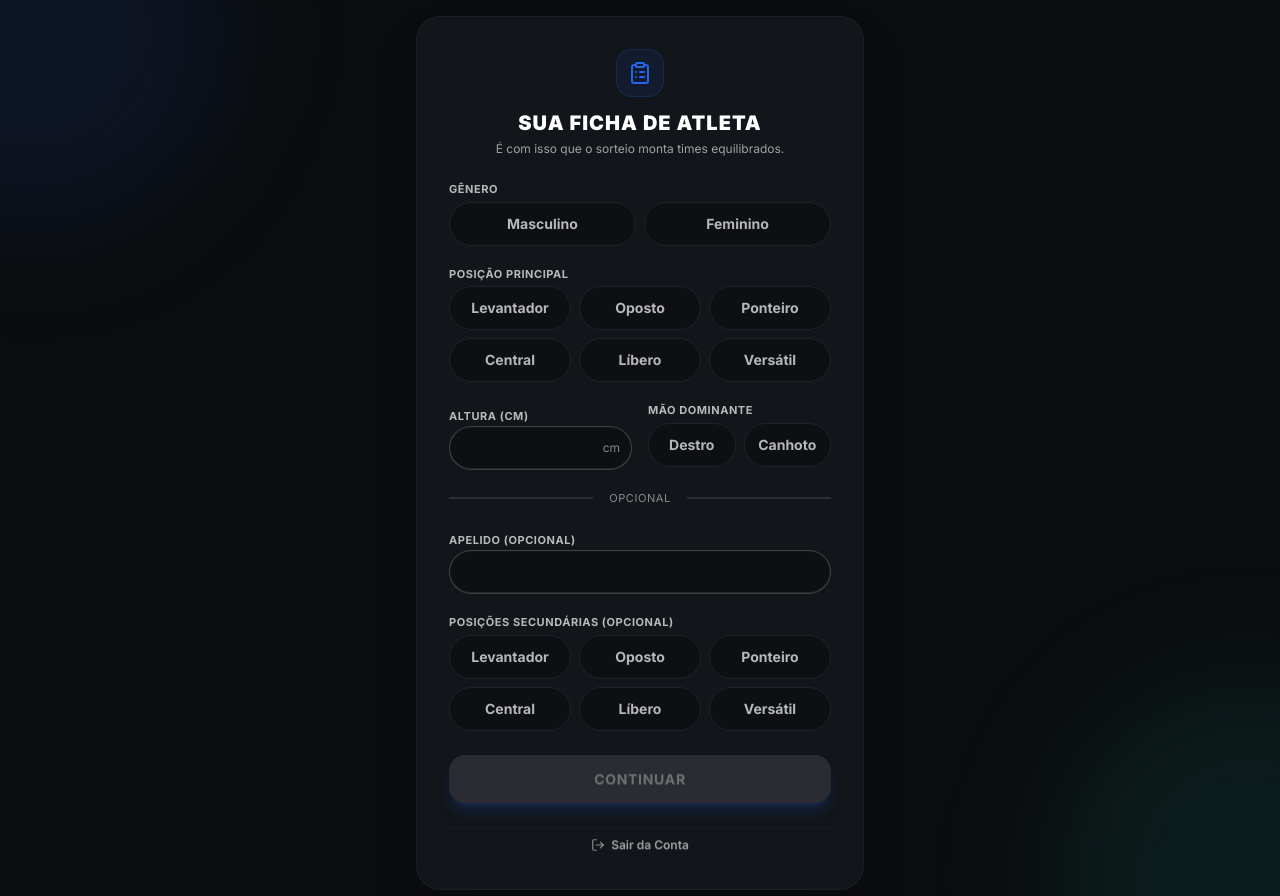
Test: CompleteAthleteProfilePage › a falha fica na tela e mantem o que foi preenchido
Click the radio button labelled "Masculino": [542, 224] box [449, 202, 636, 246]
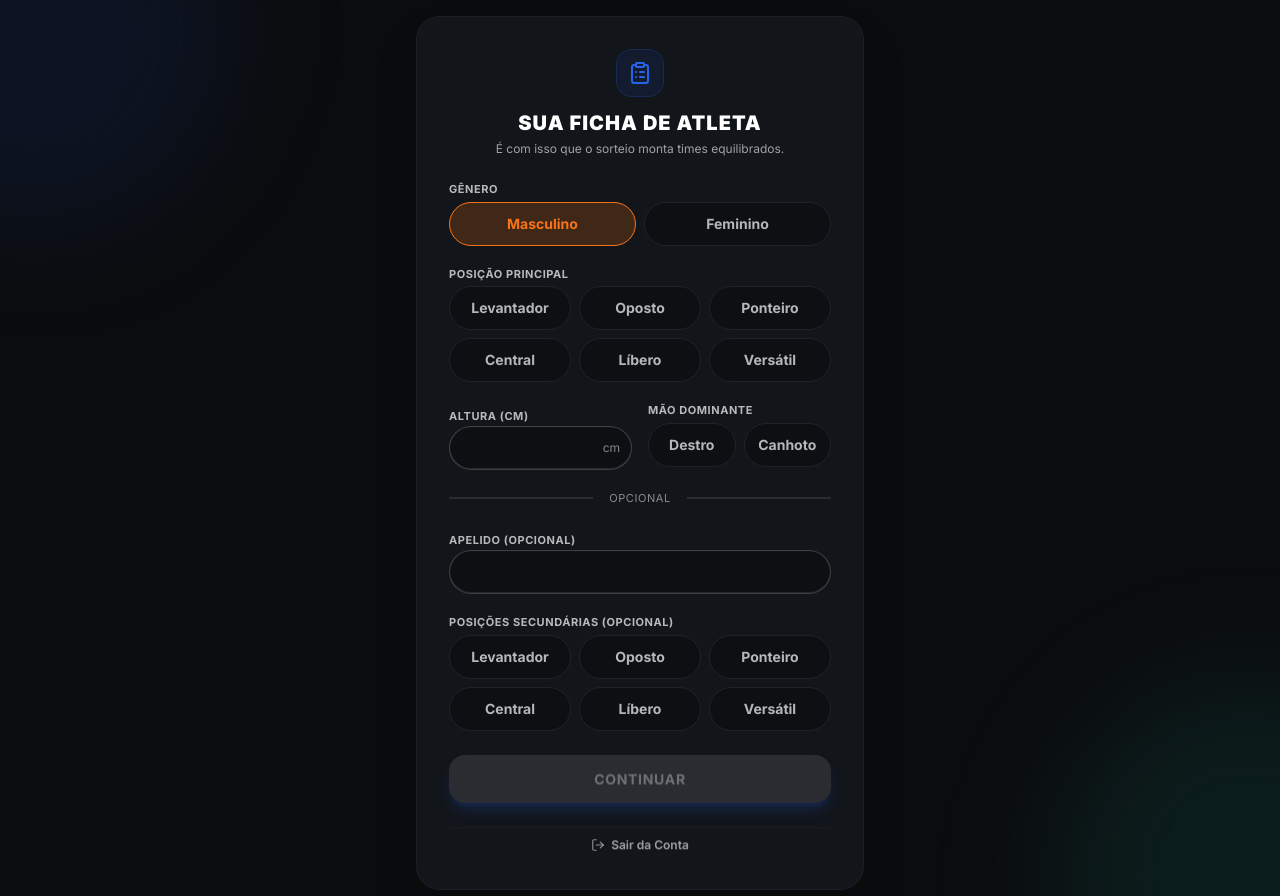
Click the radio button labelled "Ponteiro": [770, 308] box [709, 286, 831, 330]
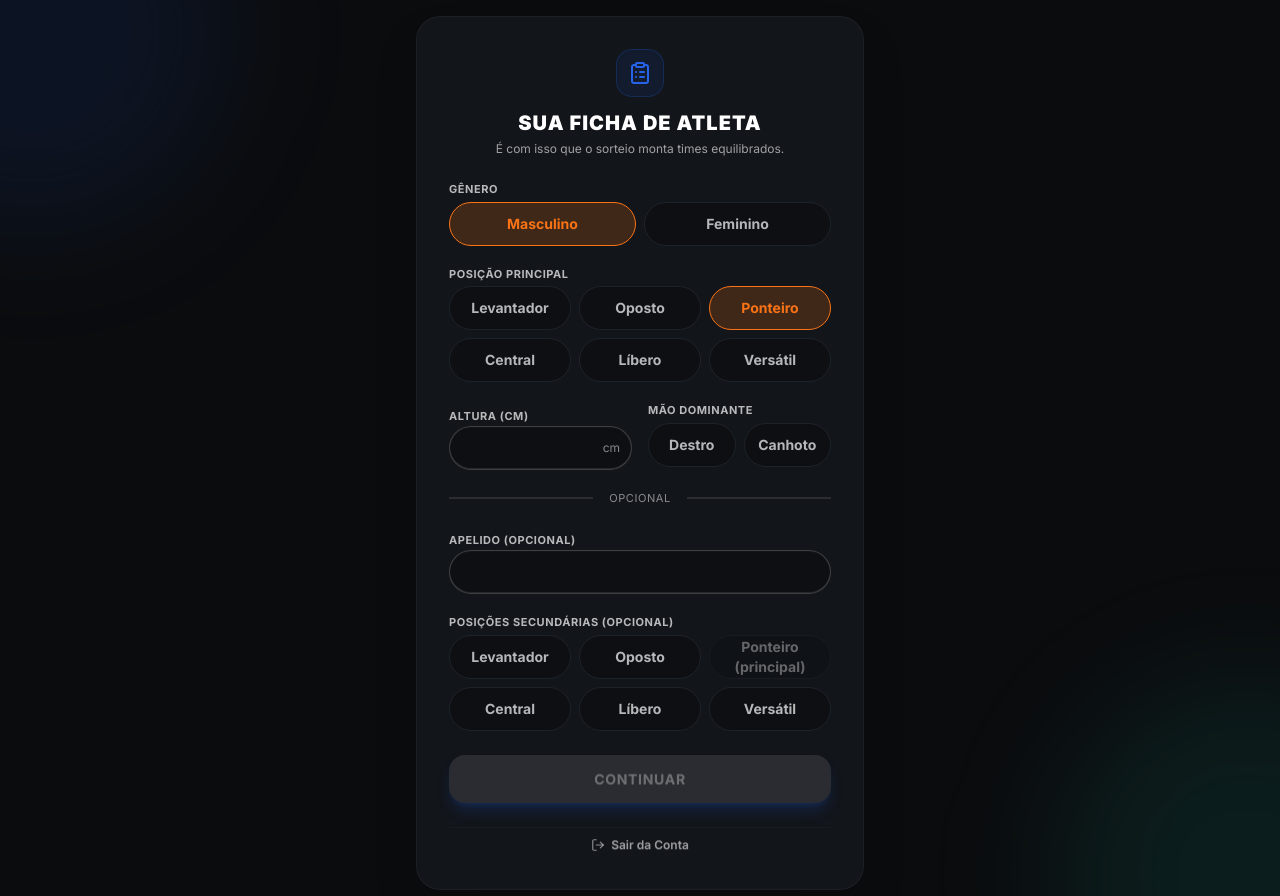
In the number field labelled "Altura (cm)": [540, 448] box [449, 426, 632, 470], type "182"
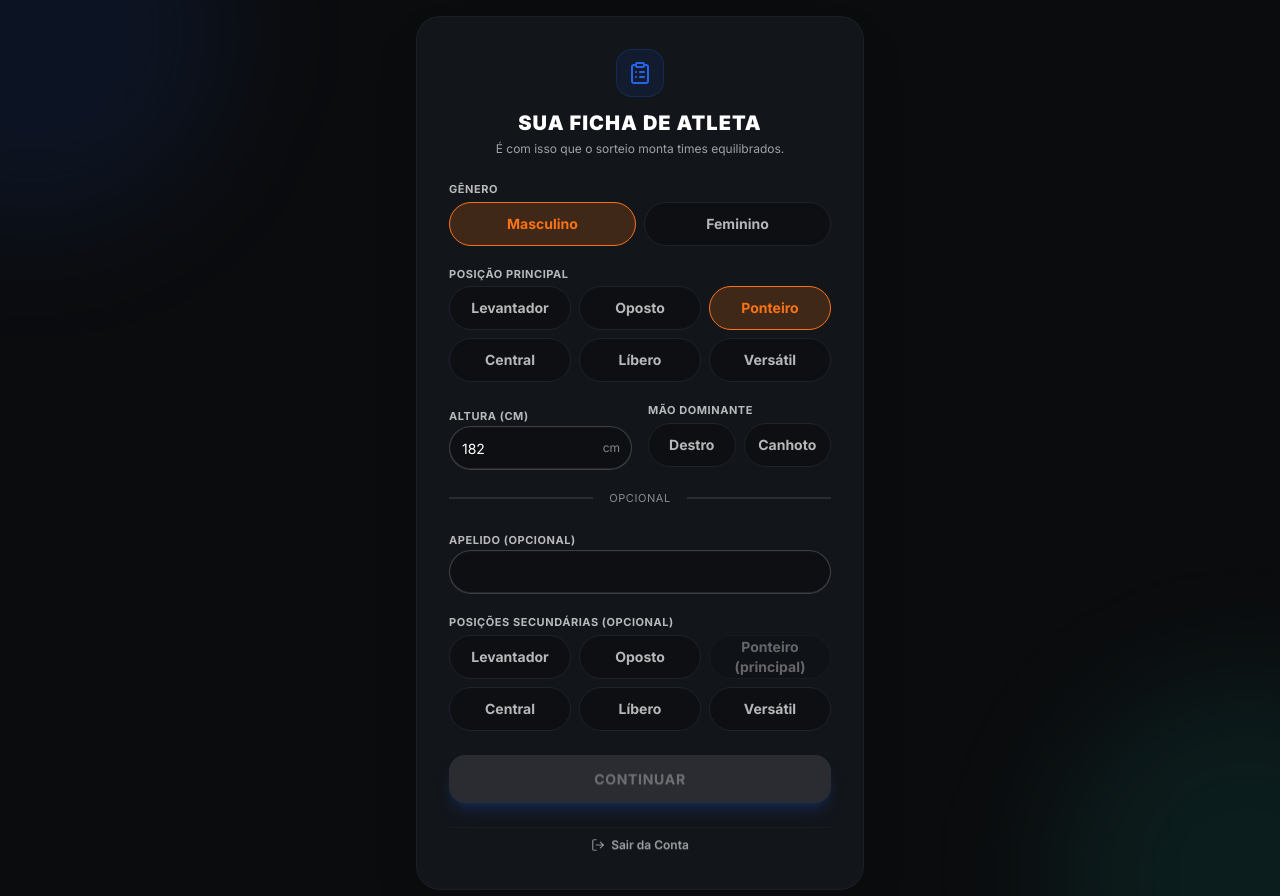
Click the radio button labelled "Destro": [692, 444] box [648, 422, 736, 466]
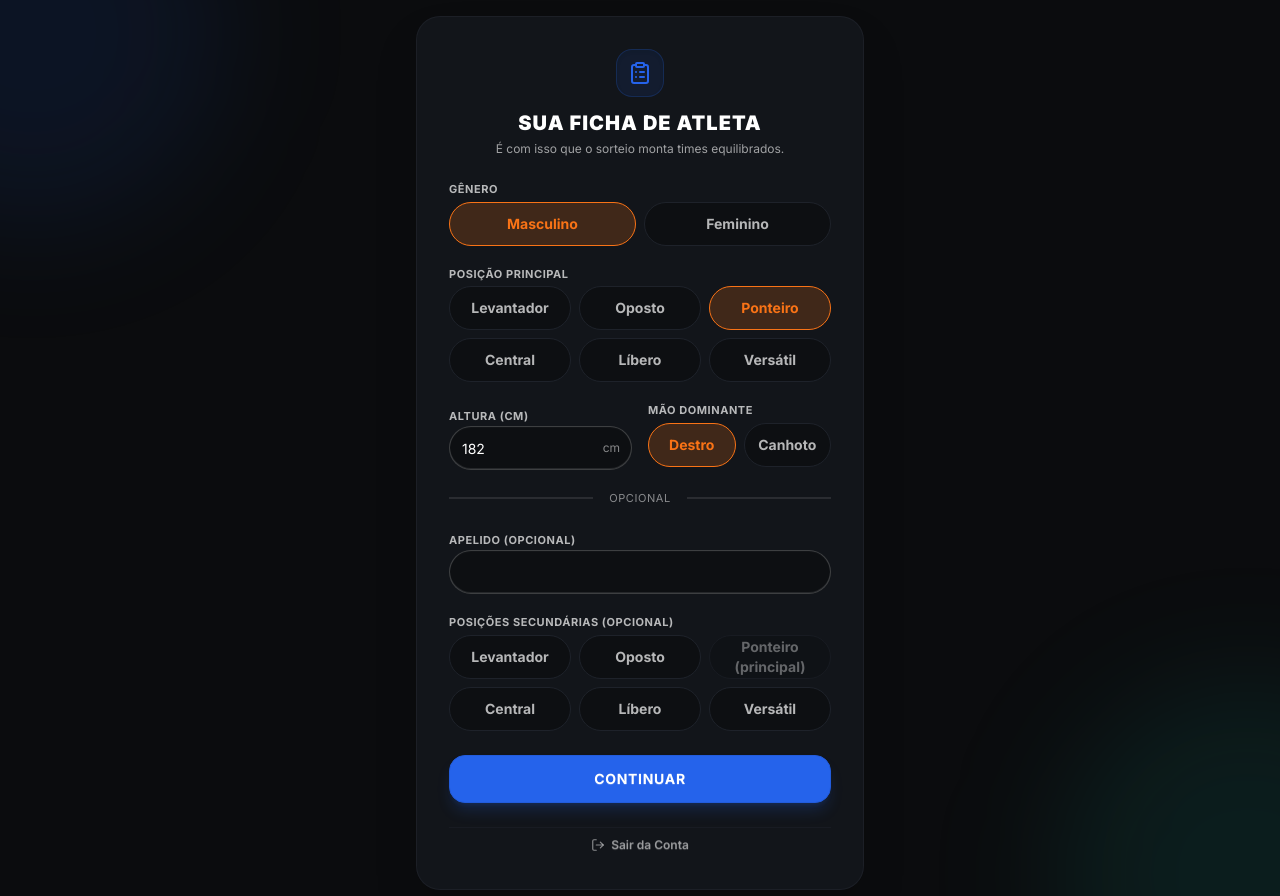
Click the button "Continuar": [640, 778] box [449, 754, 831, 802]
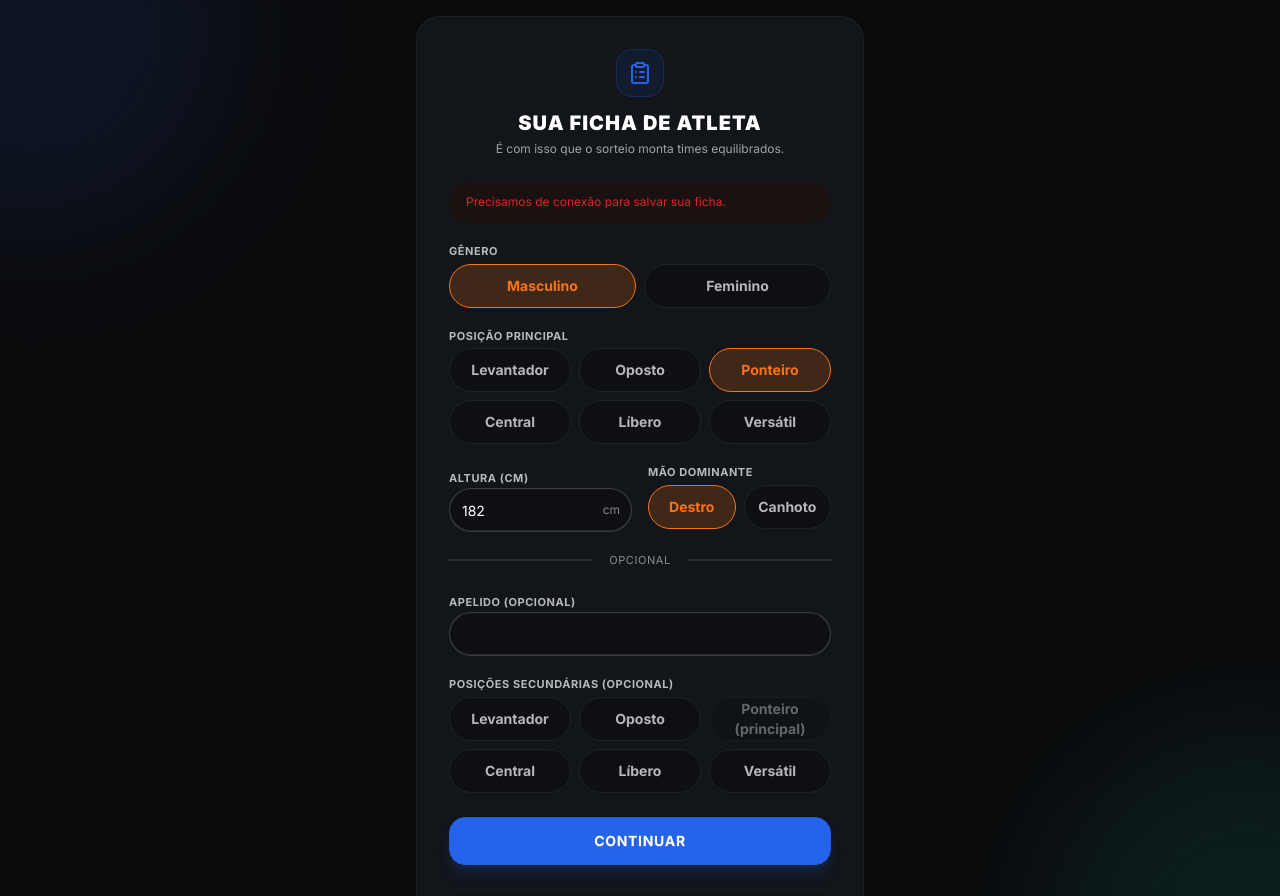
Check: the message "Precisamos de conexão para salvar sua ficha." is shown, box [449, 181, 831, 223]
